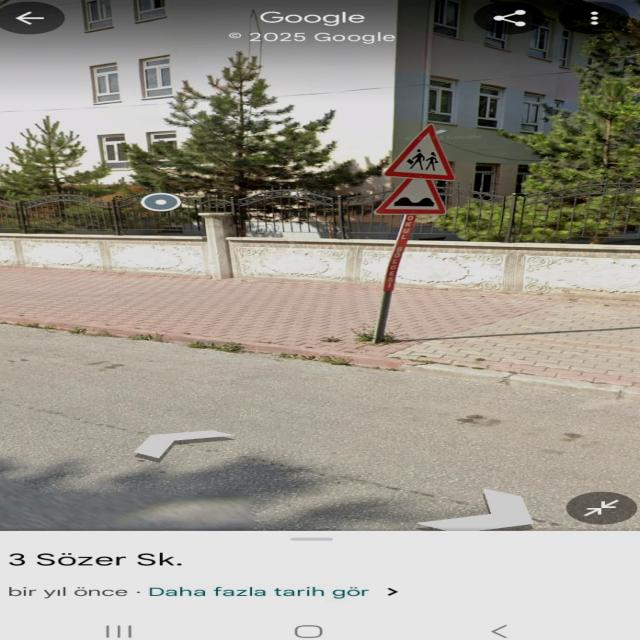okul_gecidi: (383, 122, 456, 181)
